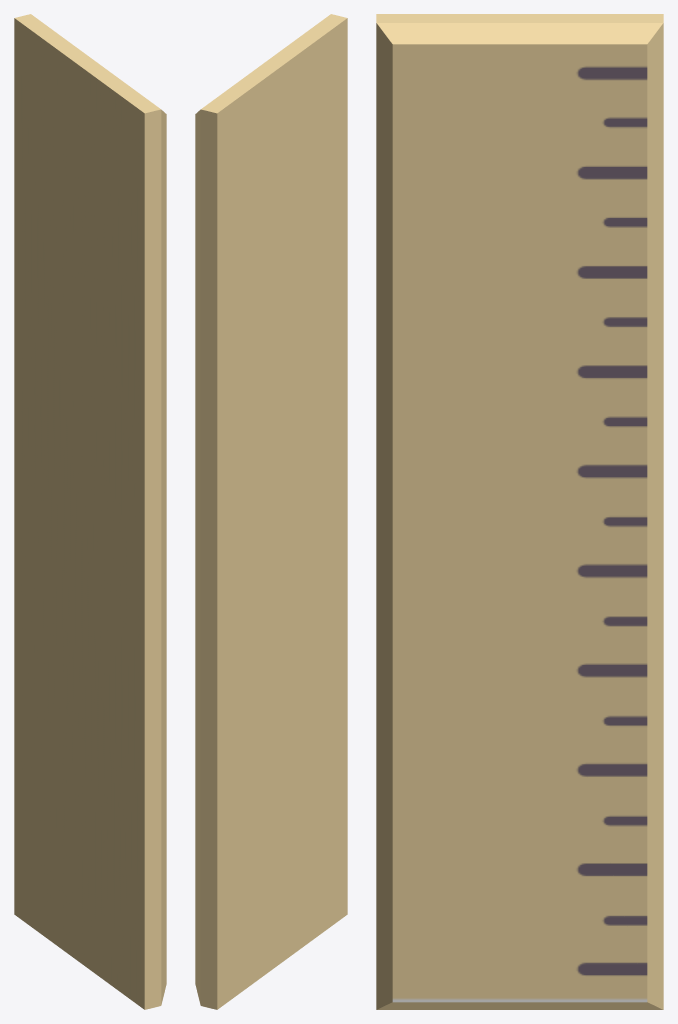
Rendered from ruler.fbx.
The picture shows the model from 3 angles, left to right: view 1: azimuth 30°, elevation 25°; view 2: azimuth 150°, elevation 25°; view 3: azimuth 270°, elevation 25°; orthographic projection. The views are drawn at different scales.
Visible parts, largest first — view 1: Cube; view 2: Cube; view 3: Cube.
Boxes of the visible parts, bbox=[...] form: Cube: bbox=[14, 14, 166, 1009]; Cube: bbox=[195, 14, 347, 1009]; Cube: bbox=[376, 14, 663, 1009].
Size of the model in its own units: 25.81 by 759 by 200.
